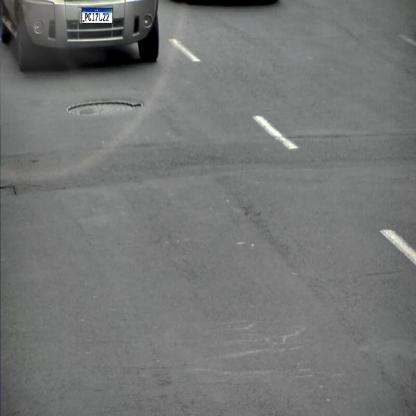PlacaM: (82, 7, 112, 24)
